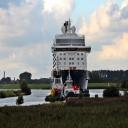cruises: (52, 17, 93, 98)
